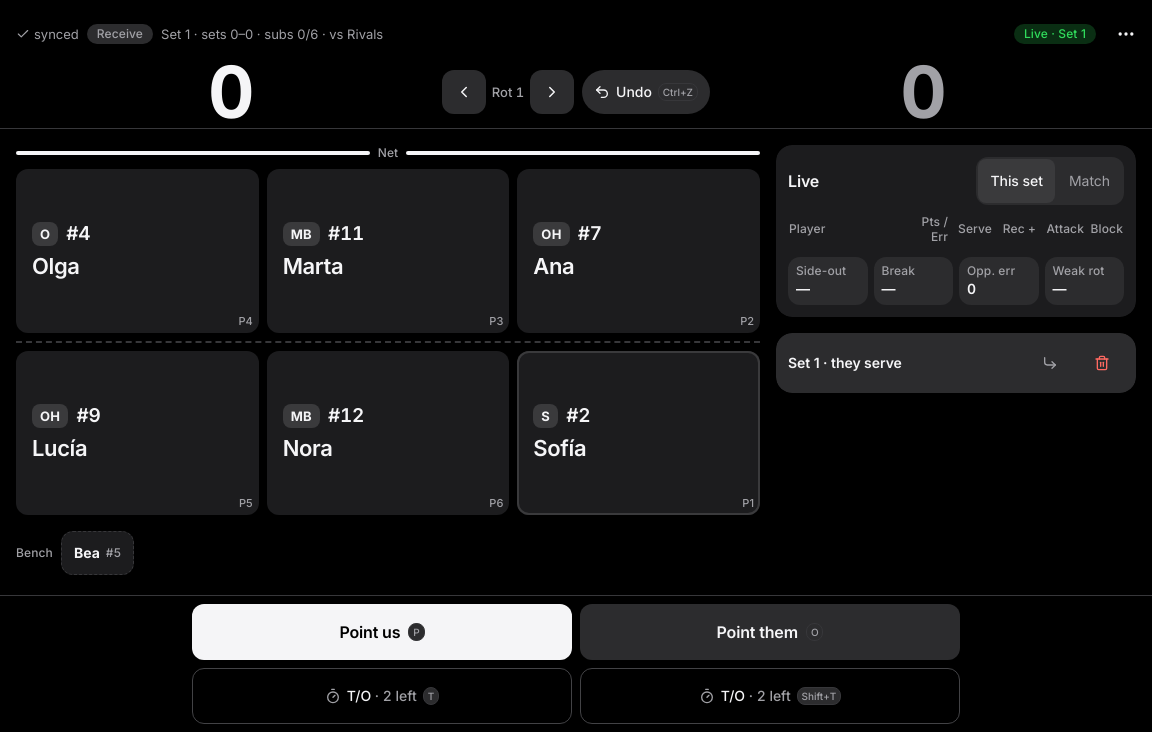
Scenario: ScoutPage › turning quick score on closes an open action sheet
This screenshot has width=1152, height=732.
Click the button "P2 OH #7 Ana": [639, 251] box [517,169,760,333]
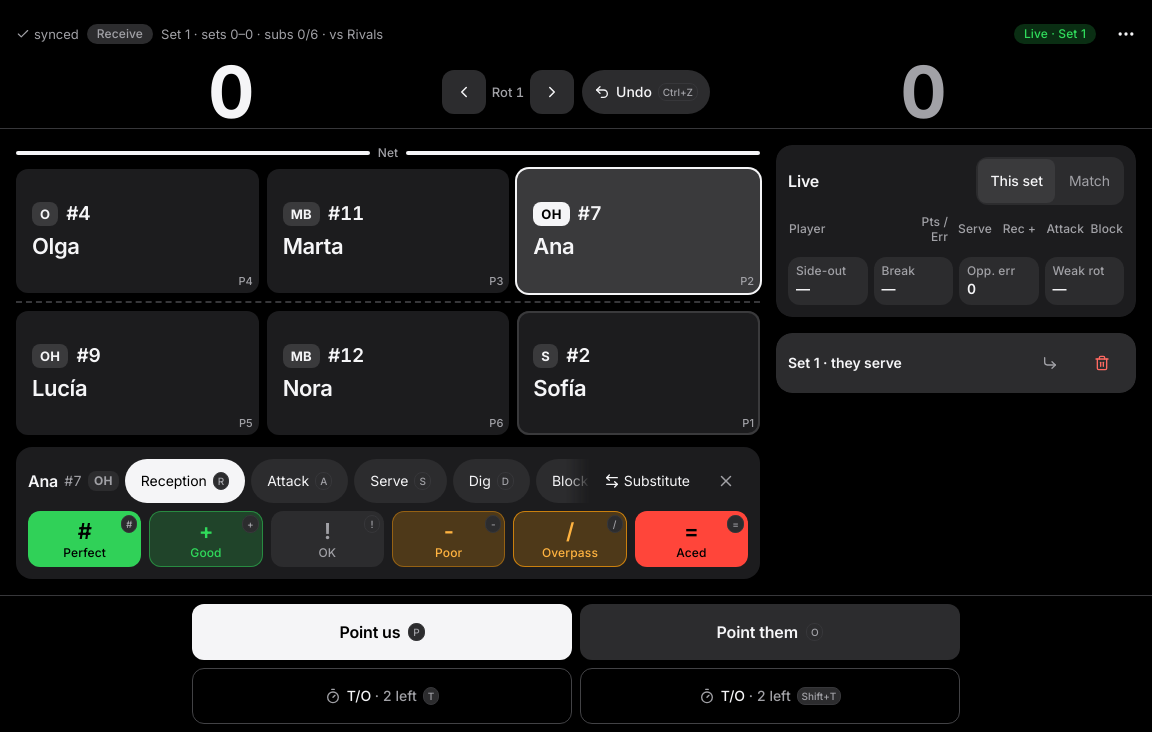
Check: the button "Reception R" is shown, box [125,459,245,503]
Click the button named "Match tools": [1126, 34] box [1104,12,1148,56]
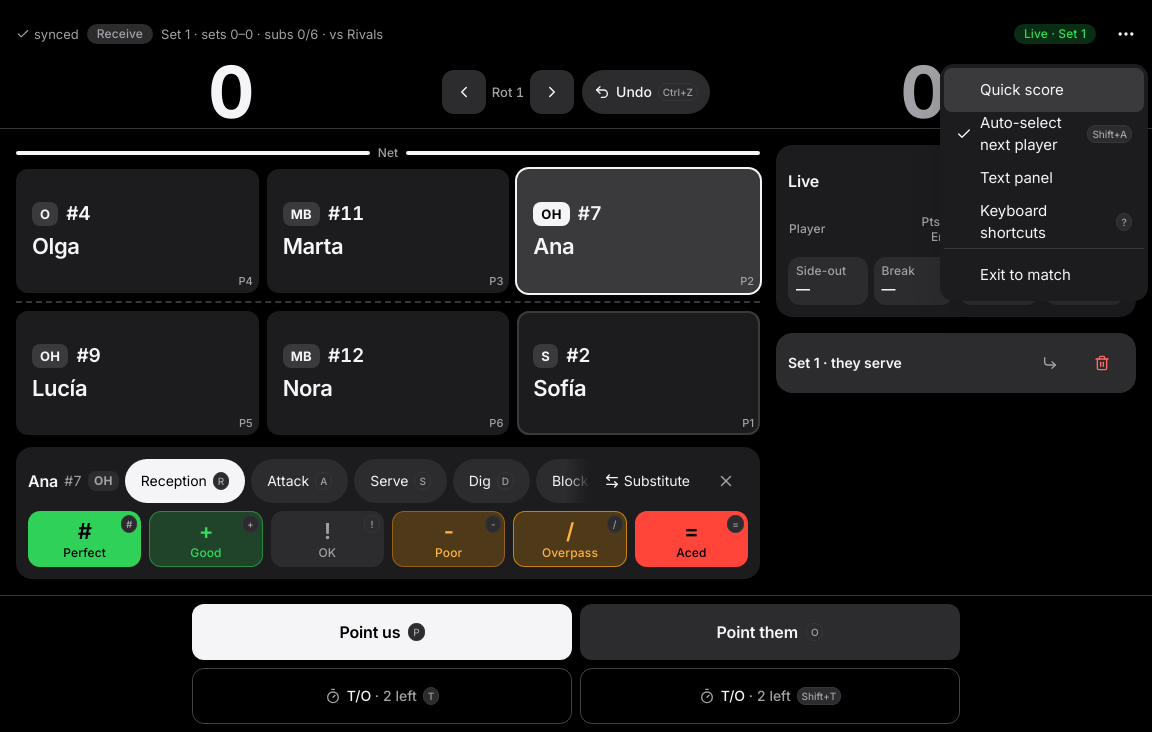
Click the menu item "Quick score": [1044, 90] box [944,68,1144,112]
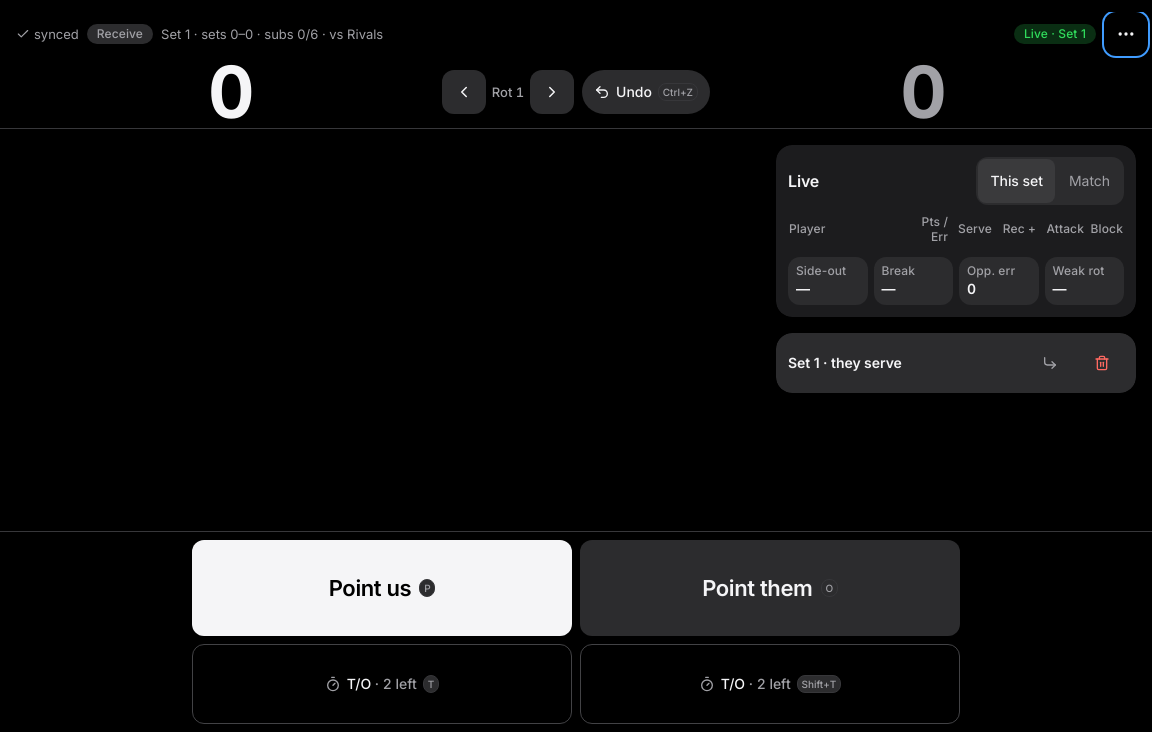
Check: the button "Reception" is gone
Click the button named "Match tools": [1126, 34] box [1104,12,1148,56]
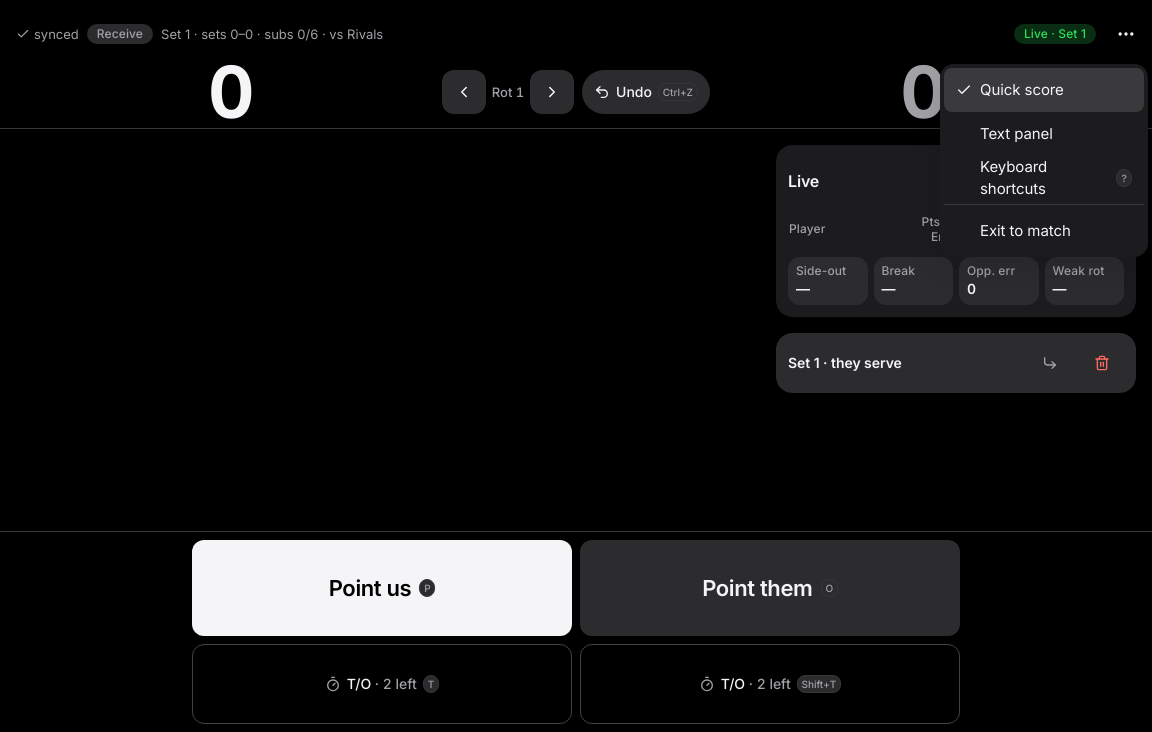
Click the menu item "Quick score": [1044, 90] box [944,68,1144,112]
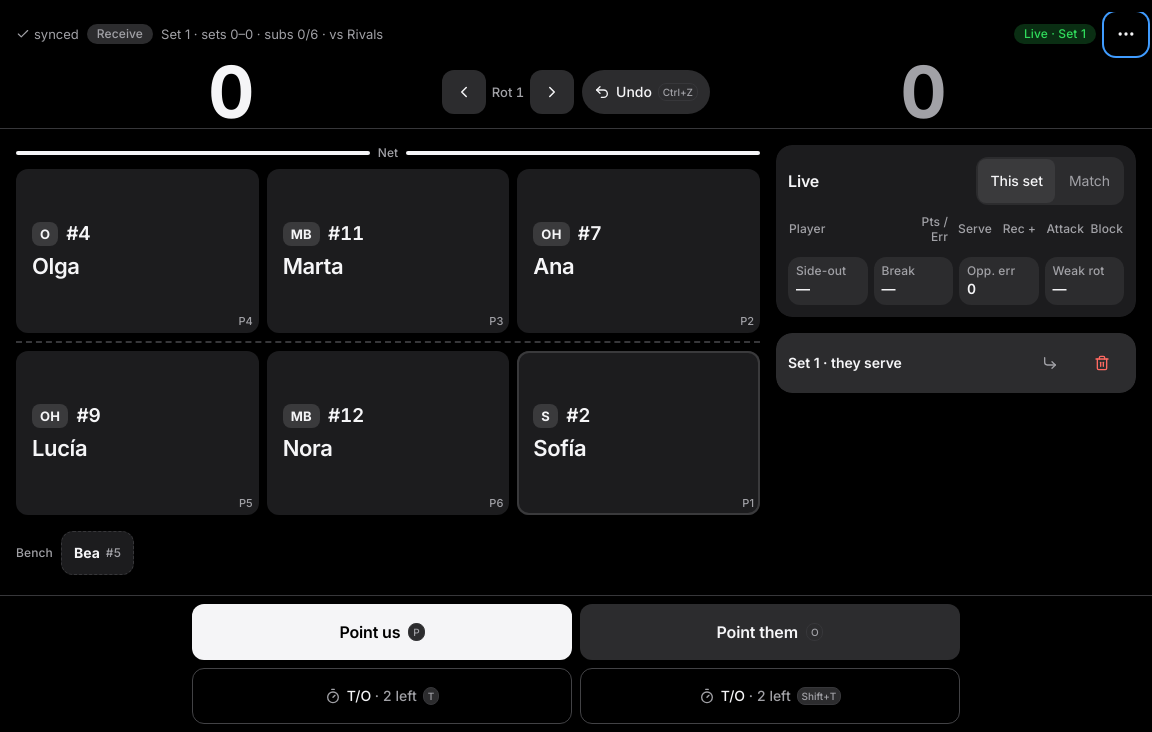
Check: the button "Reception" is not shown
Check: the button "P2 OH #7 Ana" is shown, box [517,169,760,333]
